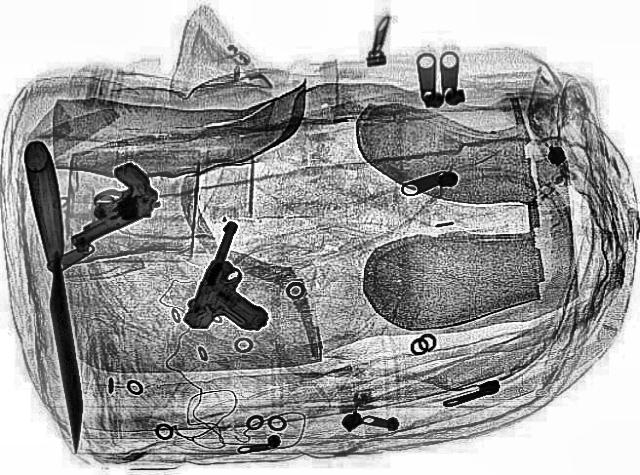Gun: (174, 219, 304, 341), (34, 158, 178, 252)
Knife: (21, 140, 93, 452)
